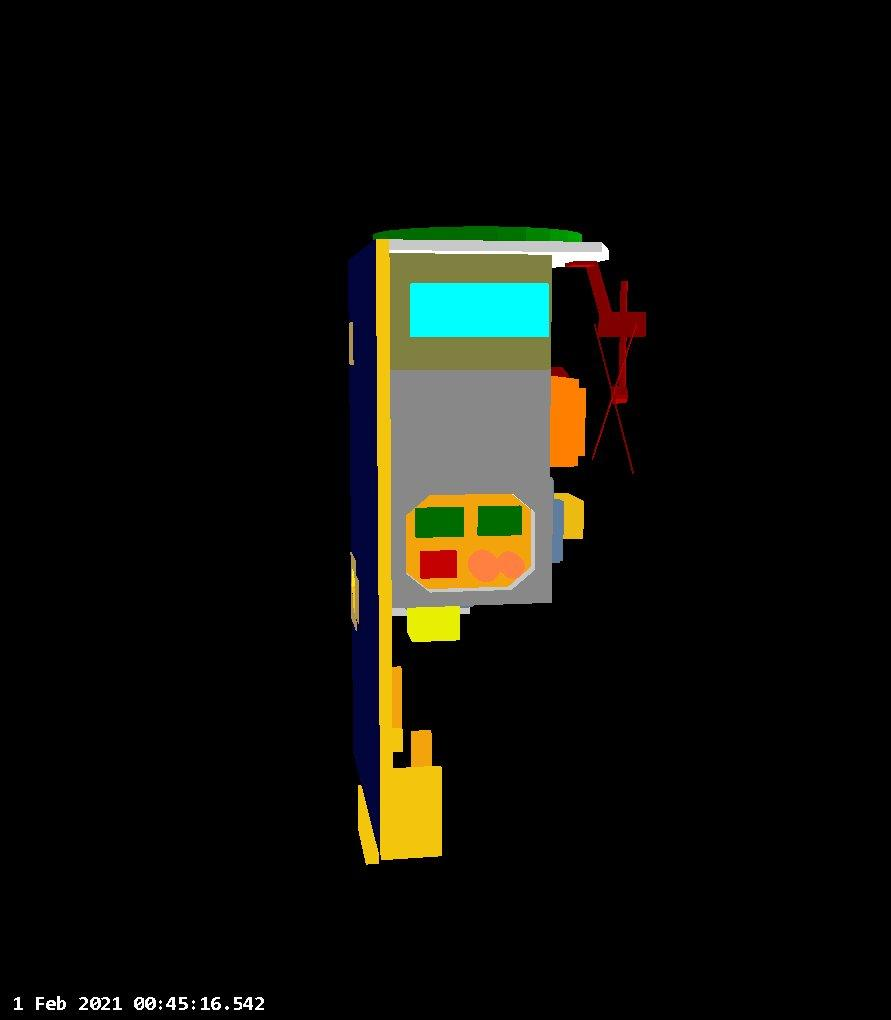antenna: (583, 307, 647, 480)
body: (337, 234, 592, 631)
solar: (323, 234, 400, 870)
